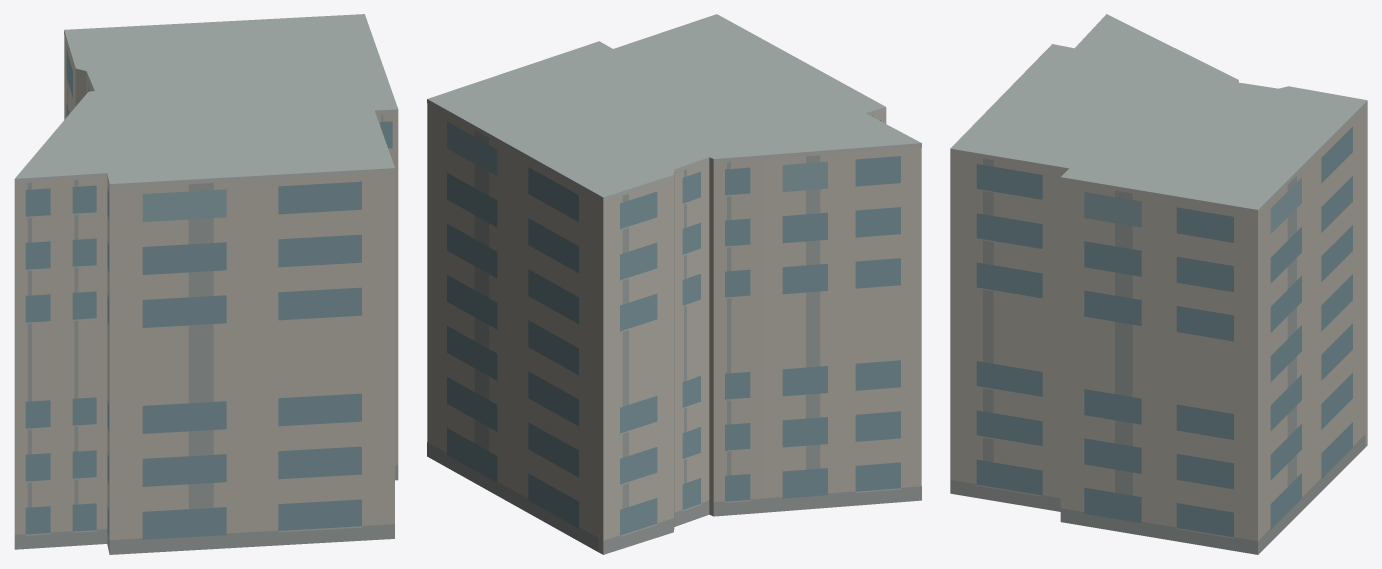
File: survey-upis-32834740.glb
3 renders of one model, left to right at view 1: azimuth 30°, elevation 25°; view 2: azimuth 150°, elevation 25°; view 3: azimuth 270°, elevation 25°, orthographic. The views are drawn at different scales.
Visible parts, largest first — view 1: survey-upis-32834740.tmp; view 2: survey-upis-32834740.tmp; view 3: survey-upis-32834740.tmp.
Part boxes in pixels (x1,y1,x2,y2): survey-upis-32834740.tmp: (14,14,398,554); survey-upis-32834740.tmp: (427,14,921,554); survey-upis-32834740.tmp: (950,14,1367,554).
Size of the model in its own units: 23.65 by 19.4 by 21.29.
